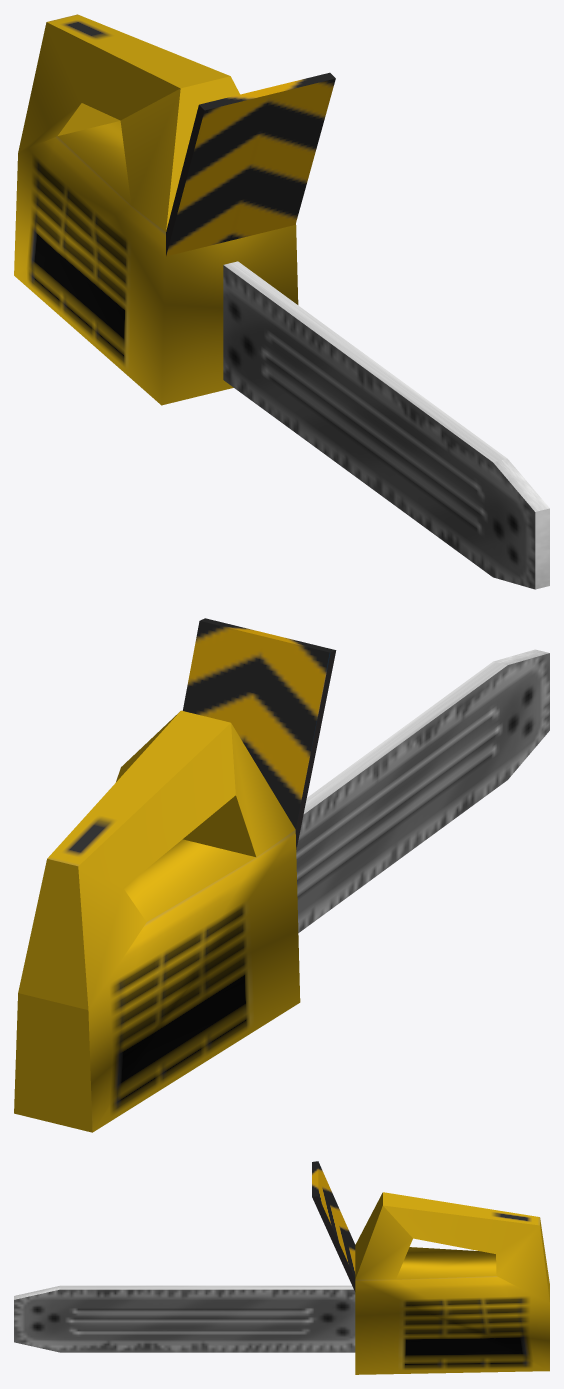
The model's file is ChainSaw.fbx.
The picture shows the model from 3 angles, top to bottom: view 1: azimuth 30°, elevation 25°; view 2: azimuth 150°, elevation 25°; view 3: azimuth 270°, elevation 25°; orthographic projection. The views are drawn at different scales.
Parts seen in each view (by area): view 1: Maya_File_Assets:TexturedAssetsCurrent:JohnPepper02Assets:Ch; view 2: Maya_File_Assets:TexturedAssetsCurrent:JohnPepper02Assets:Ch; view 3: Maya_File_Assets:TexturedAssetsCurrent:JohnPepper02Assets:Ch.
Part boxes in pixels (bbox=[...]): Maya_File_Assets:TexturedAssetsCurrent:JohnPepper02Assets:Ch: bbox=[14, 14, 549, 589]; Maya_File_Assets:TexturedAssetsCurrent:JohnPepper02Assets:Ch: bbox=[14, 618, 549, 1132]; Maya_File_Assets:TexturedAssetsCurrent:JohnPepper02Assets:Ch: bbox=[14, 1161, 549, 1374].
Size of the model in its own units: 0.1548 by 0.3549 by 0.9478.
